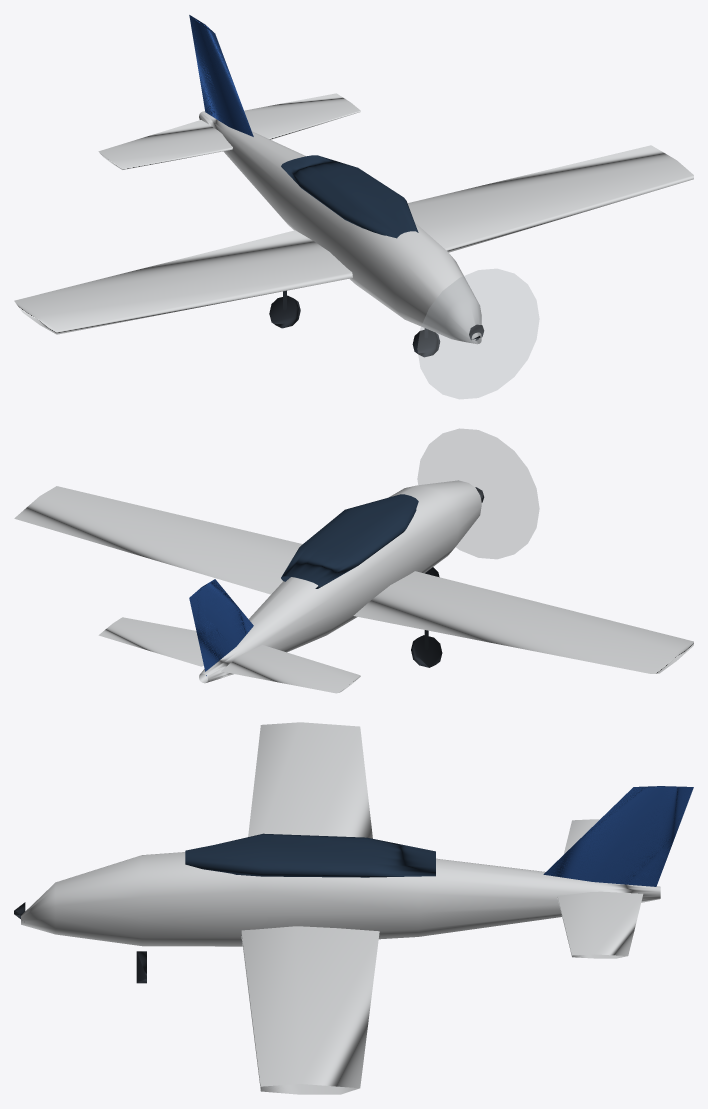
3 renders of one model, top to bottom at view 1: azimuth 30°, elevation 25°; view 2: azimuth 150°, elevation 25°; view 3: azimuth 270°, elevation 25°, orthographic. The views are drawn at different scales.
Visible parts, largest first — view 1: pa28; view 2: pa28; view 3: pa28.
Boxes of the visible parts, x1,y1,x2,y2 form: pa28: [14, 15, 693, 398]; pa28: [14, 428, 693, 693]; pa28: [14, 722, 693, 1094].
Size of the model in its own units: 9.9 by 2.55 by 7.87.
